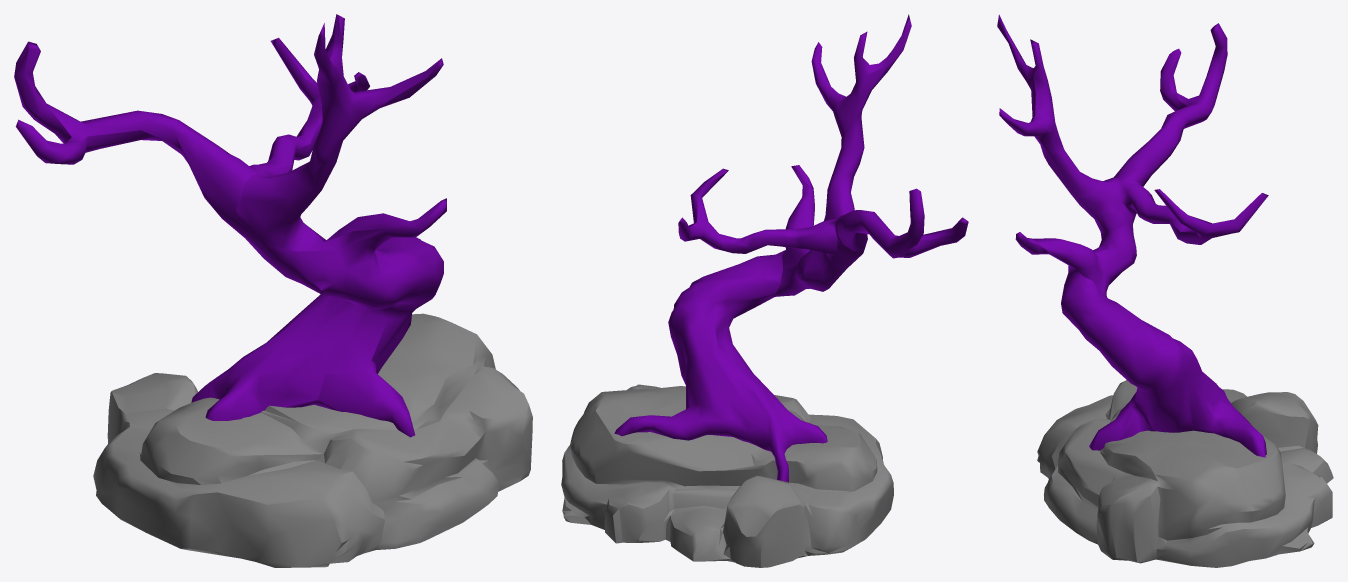
File: tree texture.fbx
The picture shows the model from 3 angles, left to right: view 1: azimuth 30°, elevation 25°; view 2: azimuth 150°, elevation 25°; view 3: azimuth 270°, elevation 25°; orthographic projection. The views are drawn at different scales.
Visible parts, largest first — view 1: rock_tree:g lowRock_Group1826group1, test_tree:Group2; view 2: rock_tree:g lowRock_Group1826group1, test_tree:Group2; view 3: rock_tree:g lowRock_Group1826group1, test_tree:Group2.
Part boxes in pixels (x1,y1,x2,y2): rock_tree:g lowRock_Group1826group1: (93,313,532,567); test_tree:Group2: (14,14,446,437); rock_tree:g lowRock_Group1826group1: (561,384,893,567); test_tree:Group2: (614,14,968,482); rock_tree:g lowRock_Group1826group1: (1037,380,1333,567); test_tree:Group2: (997,14,1268,457).
Bounding box in the file's own units: 574 × 637 × 440.
